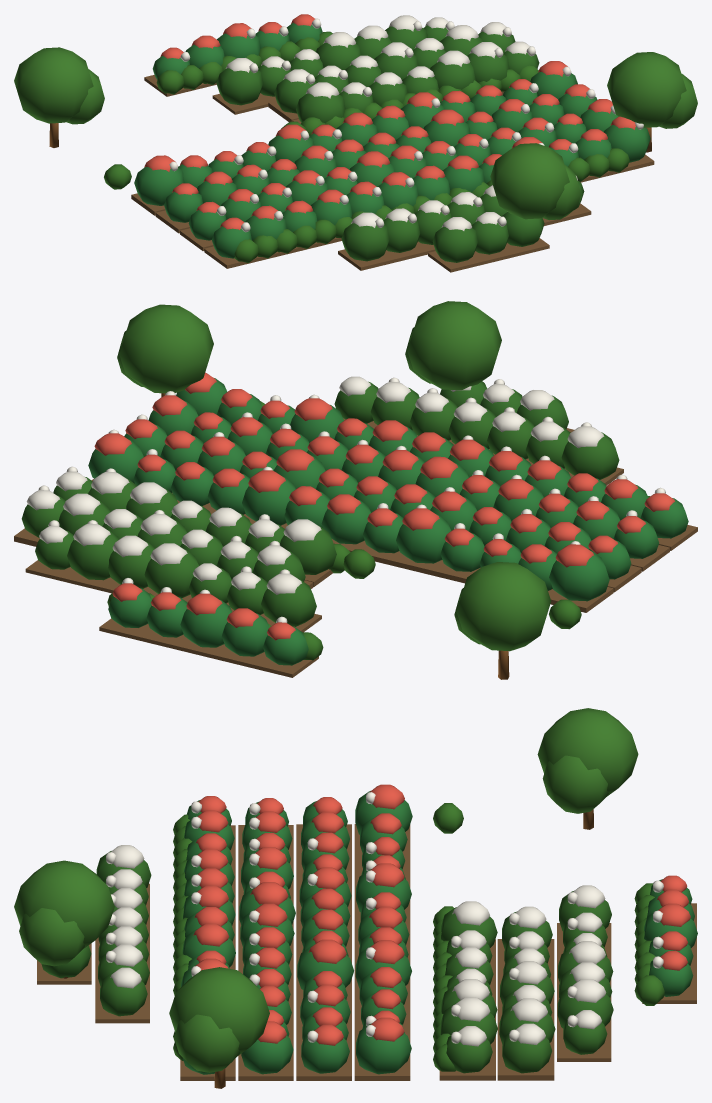
The model's file is improvement_plantation_1.fbx.
3 renders of one model, top to bottom at view 1: azimuth 30°, elevation 25°; view 2: azimuth 150°, elevation 25°; view 3: azimuth 270°, elevation 25°, orthographic. The views are drawn at different scales.
Parts seen in each view (by area): view 1: improvement_plantation_1_shrub#2f7a3a_05, improvement_plantation_1_shrub#356e28_00, improvement_plantation_1_leaf#3f7a2c.007_09, improvement_plantation_1_shrubt#e05a48_06, improvement_plantation_1_hedgeb.001_04, improvement_plantation_1_shrubt#f0ece0_01, improvement_plantation_1_tilled.009_03, improvement_plantation_1_berry#e05a48_07, improvement_plantation_1_berry#f0ece0_02; view 2: improvement_plantation_1_shrub#2f7a3a_05, improvement_plantation_1_shrub#356e28_00, improvement_plantation_1_shrubt#e05a48_06, improvement_plantation_1_leaf#3f7a2c.007_09, improvement_plantation_1_shrubt#f0ece0_01, improvement_plantation_1_tilled.009_03, improvement_plantation_1_hedgeb.001_04, improvement_plantation_1_berry#e05a48_07, improvement_plantation_1_berry#f0ece0_02; view 3: improvement_plantation_1_shrub#2f7a3a_05, improvement_plantation_1_shrubt#e05a48_06, improvement_plantation_1_leaf#3f7a2c.007_09, improvement_plantation_1_shrub#356e28_00, improvement_plantation_1_tilled.009_03, improvement_plantation_1_shrubt#f0ece0_01, improvement_plantation_1_hedgeb.001_04, improvement_plantation_1_berry#e05a48_07, improvement_plantation_1_berry#f0ece0_02.
Boxes of the visible parts, box(x1,y1,x2,y2) form: improvement_plantation_1_shrub#2f7a3a_05: box(134, 22, 650, 258); improvement_plantation_1_shrub#356e28_00: box(216, 25, 584, 262); improvement_plantation_1_leaf#3f7a2c.007_09: box(14, 47, 697, 220); improvement_plantation_1_shrubt#e05a48_06: box(144, 14, 635, 229); improvement_plantation_1_hedgeb.001_04: box(104, 31, 629, 263); improvement_plantation_1_shrubt#f0ece0_01: box(225, 15, 577, 230); improvement_plantation_1_tilled.009_03: box(131, 75, 654, 272); improvement_plantation_1_berry#e05a48_07: box(169, 18, 643, 232); improvement_plantation_1_berry#f0ece0_02: box(249, 21, 535, 227); improvement_plantation_1_shrub#2f7a3a_05: box(88, 378, 688, 665); improvement_plantation_1_shrub#356e28_00: box(21, 381, 619, 626); improvement_plantation_1_shrubt#e05a48_06: box(94, 372, 674, 640); improvement_plantation_1_leaf#3f7a2c.007_09: box(117, 301, 551, 651); improvement_plantation_1_shrubt#f0ece0_01: box(26, 376, 604, 594); improvement_plantation_1_tilled.009_03: box(14, 418, 697, 677); improvement_plantation_1_hedgeb.001_04: box(107, 401, 649, 660); improvement_plantation_1_berry#e05a48_07: box(108, 391, 665, 622); improvement_plantation_1_berry#f0ece0_02: box(38, 377, 591, 573); improvement_plantation_1_shrub#2f7a3a_05: box(181, 791, 697, 1074); improvement_plantation_1_shrubt#e05a48_06: box(193, 784, 690, 1045); improvement_plantation_1_leaf#3f7a2c.007_09: box(14, 708, 638, 1072); improvement_plantation_1_shrub#356e28_00: box(41, 851, 613, 1073); improvement_plantation_1_tilled.009_03: box(37, 824, 696, 1080); improvement_plantation_1_shrubt#f0ece0_01: box(110, 845, 606, 1046); improvement_plantation_1_hedgeb.001_04: box(173, 803, 664, 1071); improvement_plantation_1_berry#e05a48_07: box(191, 792, 663, 1042); improvement_plantation_1_berry#f0ece0_02: box(106, 852, 578, 1043).
Bounding box in the file's own units: 187 × 33.1 × 176.
